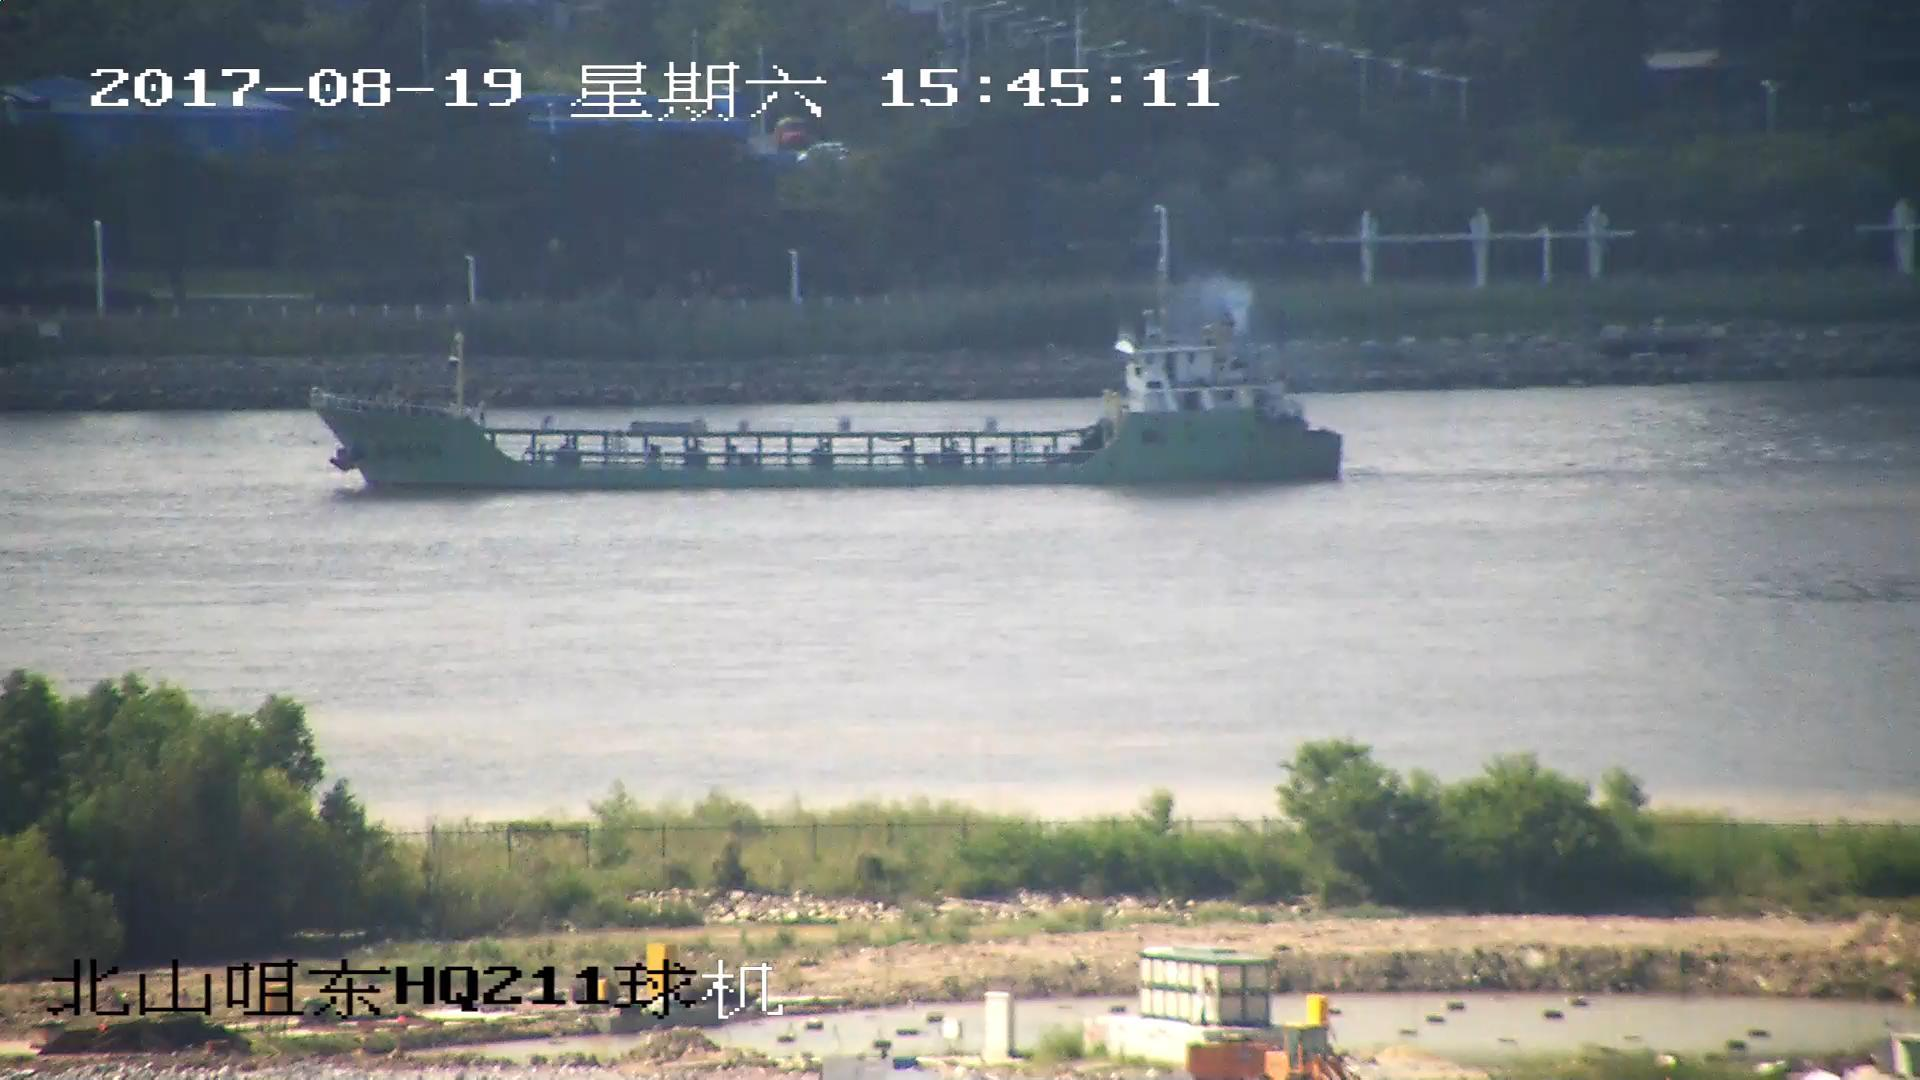Ship: (313, 272, 1344, 484)
